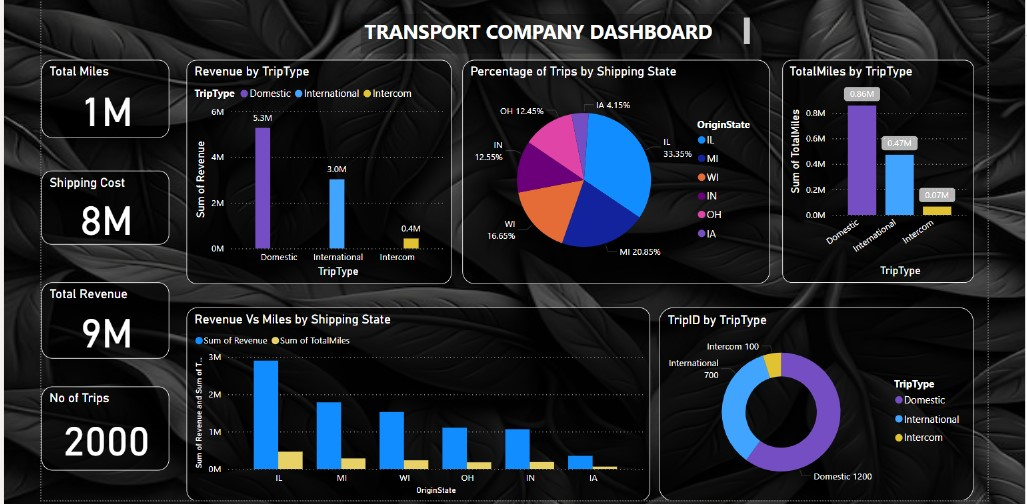

The dashboard page shown, as its layout file describes it:
{"tool":"powerbi","page":{"name":"Page 1","canvas":[1280,720],"ordinal":0},"visuals":[{"type":"clusteredColumnChart","title":"Revenue by TripType ","fields":{"Category":["Worksheet.TripType"],"Y":["Sum(Worksheet.Revenue)"],"Series":["Worksheet.TripType"]},"box":[196.2,123.5,358.1,303.3],"z":0},{"type":"pieChart","title":"Percentage of Trips by Shipping State","fields":{"Y":["CountNonNull(Worksheet.TripID)"],"Category":["Worksheet.OriginState"]},"box":[569.5,123.5,415.8,303.3],"z":1000},{"type":"donutChart","title":"TripID by TripType","fields":{"Category":["Worksheet.TripType"],"Y":["CountNonNull(Worksheet.TripID)"]},"box":[835.7,458.3,425.4,262.1],"z":2000},{"type":"lineClusteredColumnComboChart","title":"Revenue Vs Miles by Shipping State","fields":{"Category":["Worksheet.OriginState"],"Y":["Sum(Worksheet.Revenue)","Sum(Worksheet.TotalMiles)"]},"box":[196.2,458.3,627.1,262.1],"z":3000},{"type":"lineClusteredColumnComboChart","title":"TotalMiles by TripType","fields":{"Category":["Worksheet.TripType"],"Y":["Sum(Worksheet.TotalMiles)"]},"box":[1001.7,123.5,259.3,301.9],"z":4000},{"type":"textbox","box":[432.2,61.7,531,53.5],"z":5000},{"type":"card","title":"Total Miles","fields":{"Values":["Sum(Worksheet.TotalMiles)"]},"box":[0,123.5,172.9,105.7],"z":6000},{"type":"card","title":"Shipping Cost","fields":{"Values":["Sum(Worksheet.ShippingCost)"]},"box":[0,274.4,172.9,100.2],"z":7000},{"type":"card","title":"Total Revenue","fields":{"Values":["Sum(Worksheet.Revenue)"]},"box":[0,425.4,172.9,102.9],"z":8000},{"type":"card","title":"No of Trips","fields":{"Values":["CountNonNull(Worksheet.TripID)"]},"box":[0,565.4,172.9,113.9],"z":9000}]}

Visuals, with their boxes on the page's 1280x720 design canvas (x1, y1, x2, y2). These are canvas units, not pixel positions in the 1027x504 screenshot, which may show the page scaled, cropped or inside an application window:
"Revenue by TripType " clusteredColumnChart: bbox(196, 124, 554, 427)
"Percentage of Trips by Shipping State" pieChart: bbox(570, 124, 985, 427)
"TripID by TripType" donutChart: bbox(836, 458, 1261, 720)
"Revenue Vs Miles by Shipping State" lineClusteredColumnComboChart: bbox(196, 458, 823, 720)
"TotalMiles by TripType" lineClusteredColumnComboChart: bbox(1002, 124, 1261, 425)
textbox: bbox(432, 62, 963, 115)
"Total Miles" card: bbox(0, 124, 173, 229)
"Shipping Cost" card: bbox(0, 274, 173, 375)
"Total Revenue" card: bbox(0, 425, 173, 528)
"No of Trips" card: bbox(0, 565, 173, 679)
